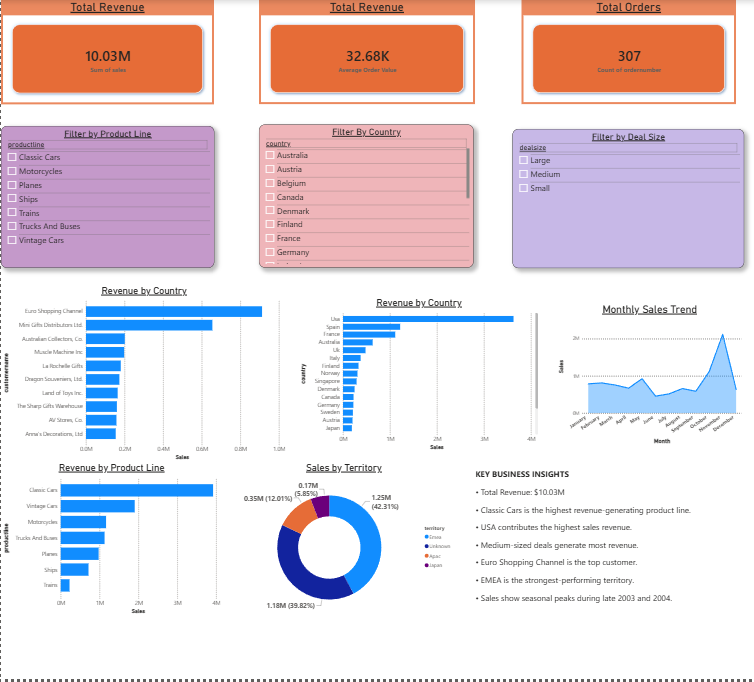

This screenshot's page, from the dashboard's own definition file:
{"tool":"powerbi","page":{"name":"Sales Performance Dashboard","canvas":[2000,1800],"ordinal":0},"visuals":[{"type":"cardVisual","title":"Total Revenue","fields":{"Data":["Sum(sales_data_cleaned.sales)"]},"box":[0,0,564.7,276.5],"z":0},{"type":"cardVisual","title":"Total Orders","fields":{"Data":["Count(sales_data_cleaned.ordernumber)"]},"box":[1379.3,0,569,275.9],"z":1000},{"type":"cardVisual","title":"Total Revenue","fields":{"Data":["sales_data_cleaned.Average Order Value"]},"box":[682.8,0,572.4,275.9],"z":2000},{"type":"slicer","title":"Filter By Country","fields":{"Values":["sales_data_cleaned.country"]},"box":[682.8,331,569,379.3],"z":3000},{"type":"slicer","title":"Filter by Product Line","fields":{"Values":["sales_data_cleaned.productline"]},"box":[0,334.5,565.5,375.9],"z":4000},{"type":"slicer","title":"Filter by Deal Size","fields":{"Values":["sales_data_cleaned.dealsize"]},"box":[1355.2,341.4,613.8,369],"z":5000},{"type":"lineChart","title":"Monthly Sales Trend","fields":{"Category":["sales_data_cleaned.orderdate.Variation.Date Hierarchy.Month"],"Y":["Sum(sales_data_cleaned.sales)"]},"box":[1472.4,803.4,496.6,379.3],"z":6000},{"type":"clusteredBarChart","title":"Revenue by Product Line","fields":{"Category":["sales_data_cleaned.productline"],"Y":["Sum(sales_data_cleaned.sales)"]},"box":[0,1224.1,586.2,406.9],"z":7000},{"type":"barChart","title":"Revenue by Country","fields":{"Category":["sales_data_cleaned.country"],"Y":["Sum(sales_data_cleaned.sales)"]},"box":[786.2,786.2,641.4,410.3],"z":8000},{"type":"barChart","title":"Revenue by Country","fields":{"Category":["sales_data_cleaned.customername"],"Y":["Sum(sales_data_cleaned.sales)"]},"box":[0,755.2,758.6,469],"z":9000},{"type":"donutChart","title":"Sales by Territory","fields":{"Category":["sales_data_cleaned.territory"],"Y":["Sum(sales_data_cleaned.sales)"]},"box":[613.8,1224.1,593.1,424.1],"z":10000},{"type":"textbox","box":[1251.6,1237.5,717.2,410.9],"z":11000},{"type":"textbox","box":[0,1641,586,159],"z":11001}]}

Visuals, with their boxes in screenshot pixels (x1, y1, x2, y2), scaled from the page's 2000x1800 canvas onto the 754x682 screenshot:
"Total Revenue" cardVisual: {"left": 0, "top": 0, "right": 213, "bottom": 105}
"Total Orders" cardVisual: {"left": 520, "top": 0, "right": 735, "bottom": 105}
"Total Revenue" cardVisual: {"left": 257, "top": 0, "right": 473, "bottom": 105}
"Filter By Country" slicer: {"left": 257, "top": 125, "right": 472, "bottom": 269}
"Filter by Product Line" slicer: {"left": 0, "top": 127, "right": 213, "bottom": 269}
"Filter by Deal Size" slicer: {"left": 511, "top": 129, "right": 742, "bottom": 269}
"Monthly Sales Trend" lineChart: {"left": 555, "top": 304, "right": 742, "bottom": 448}
"Revenue by Product Line" clusteredBarChart: {"left": 0, "top": 464, "right": 221, "bottom": 618}
"Revenue by Country" barChart: {"left": 296, "top": 298, "right": 538, "bottom": 453}
"Revenue by Country" barChart: {"left": 0, "top": 286, "right": 286, "bottom": 464}
"Sales by Territory" donutChart: {"left": 231, "top": 464, "right": 455, "bottom": 624}
textbox: {"left": 472, "top": 469, "right": 742, "bottom": 625}
textbox: {"left": 0, "top": 622, "right": 221, "bottom": 681}
